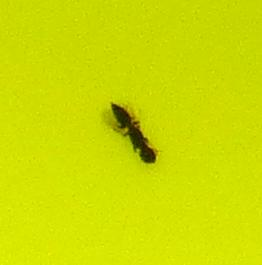Hymenoptera: (100, 100, 162, 165)
